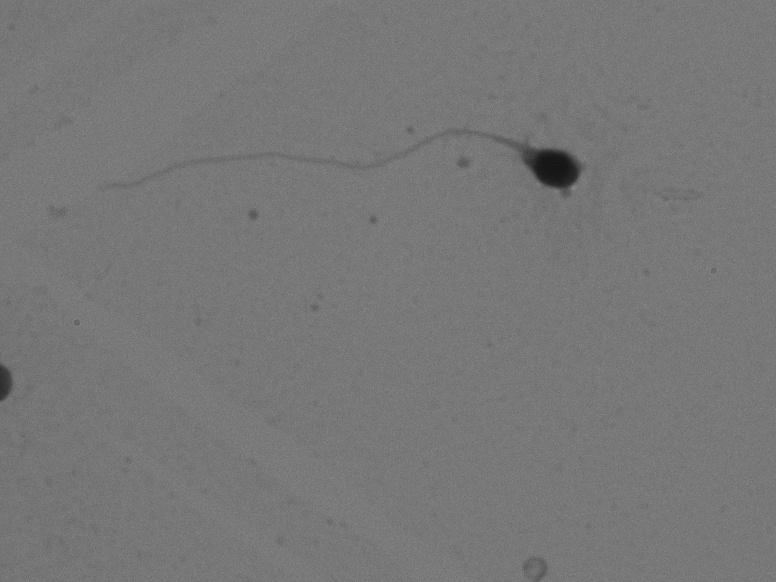Normal: (56, 79, 609, 269)
